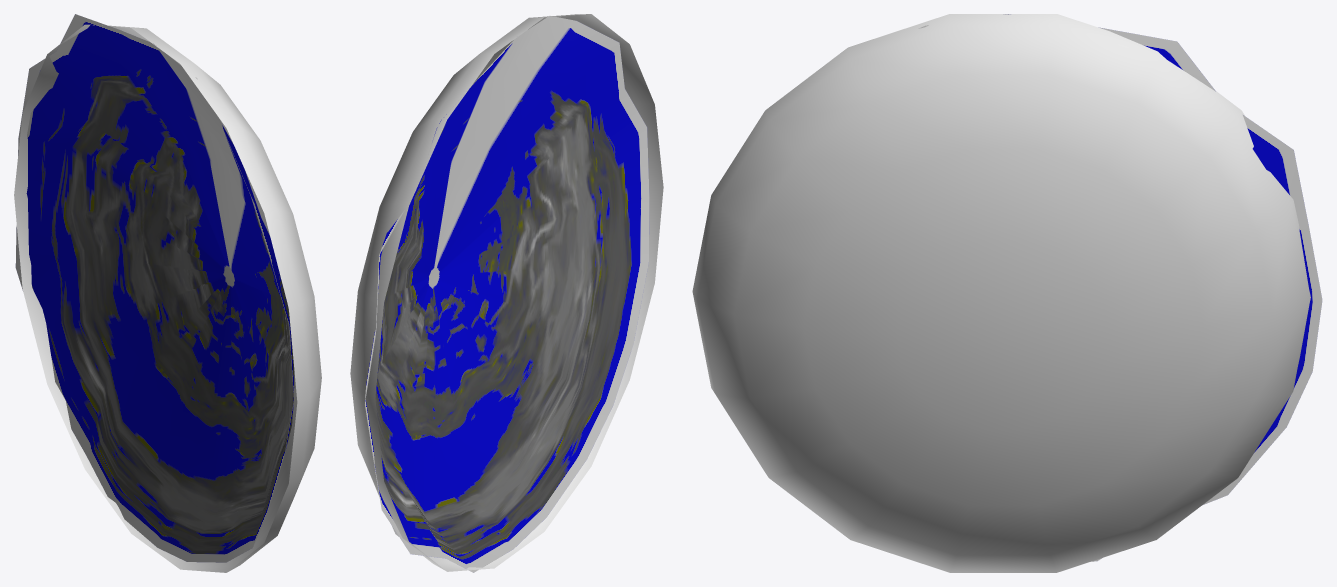
Rendered from fx_gedang_dun.FBX.
3 renders of one model, left to right at view 1: azimuth 30°, elevation 25°; view 2: azimuth 150°, elevation 25°; view 3: azimuth 270°, elevation 25°, orthographic. The views are drawn at different scales.
Parts seen in each view (by area): view 1: gedang_dun, gedang_dun02; view 2: gedang_dun, gedang_dun02; view 3: gedang_dun02, gedang_dun.
Boxes of the visible parts, x1=… form: gedang_dun: x1=15, y1=14, x2=294, y2=562; gedang_dun02: x1=14, y1=24, x2=321, y2=572; gedang_dun: x1=365, y1=16, x2=649, y2=572; gedang_dun02: x1=350, y1=14, x2=663, y2=571; gedang_dun02: x1=692, y1=14, x2=1310, y2=572; gedang_dun: x1=918, y1=14, x2=1322, y2=561.
Size of the model in its own units: 70.85 by 384 by 395.
Materials: 1 (1 with a texture image).
